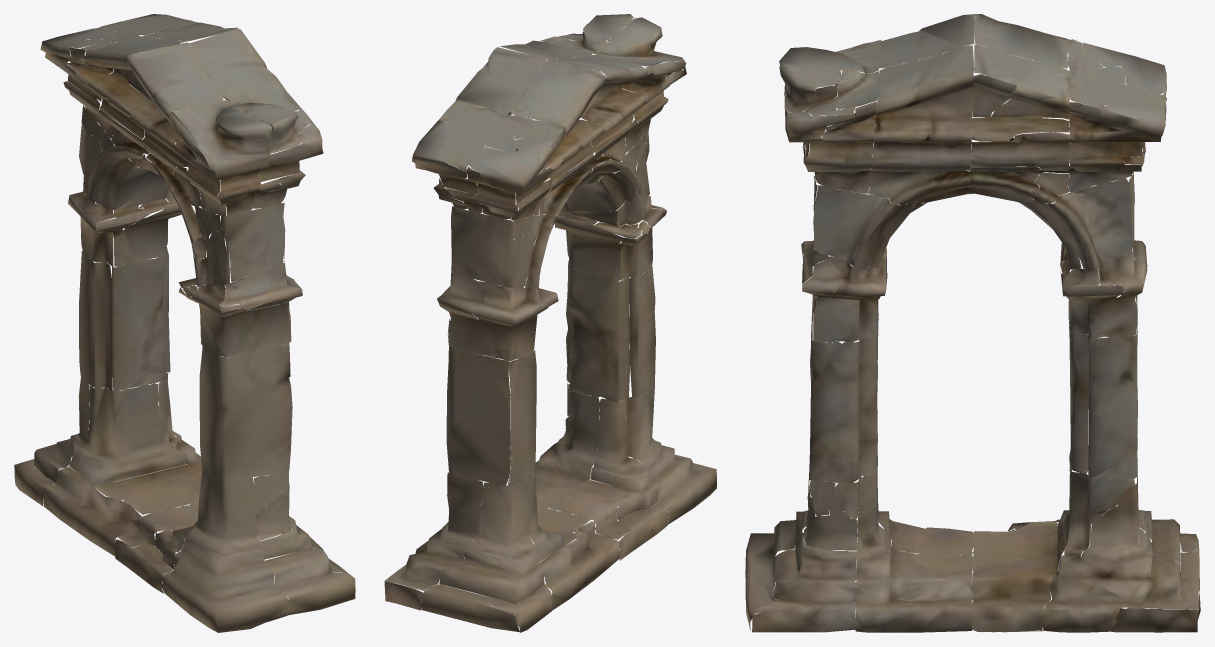
The model's file is arch.glb.
3 renders of one model, left to right at view 1: azimuth 30°, elevation 25°; view 2: azimuth 150°, elevation 25°; view 3: azimuth 270°, elevation 25°, orthographic. The views are drawn at different scales.
Visible parts, largest first — view 1: tripo_node_7553c26b-bc04-4ce0-a86d-9e7d18b5ccb0; view 2: tripo_node_7553c26b-bc04-4ce0-a86d-9e7d18b5ccb0; view 3: tripo_node_7553c26b-bc04-4ce0-a86d-9e7d18b5ccb0.
Part boxes in pixels (bbox=[...]): tripo_node_7553c26b-bc04-4ce0-a86d-9e7d18b5ccb0: bbox=[14, 14, 355, 632]; tripo_node_7553c26b-bc04-4ce0-a86d-9e7d18b5ccb0: bbox=[384, 14, 716, 632]; tripo_node_7553c26b-bc04-4ce0-a86d-9e7d18b5ccb0: bbox=[745, 14, 1200, 632].
Size of the model in its own units: 0.296 by 1 by 0.7431.
1 material, 1 textured.
